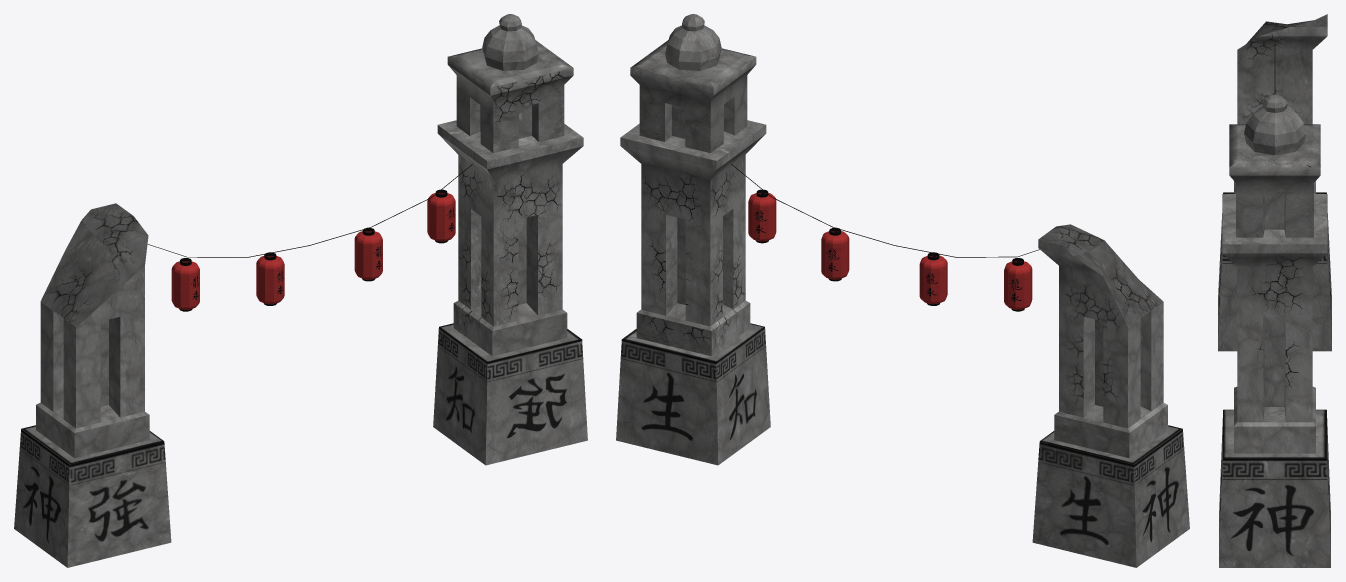
File: PortalProp_V1Ruin.fbx
3 views of the same model, side by side, from view 1: azimuth 30°, elevation 25°; view 2: azimuth 150°, elevation 25°; view 3: azimuth 270°, elevation 25° (orthographic). The views are drawn at different scales.
Parts seen in each view (by area): view 1: Column3, Ruin_Column, Farol8, Farol5, Farol6, Farol7; view 2: Column3, Ruin_Column, Farol5, Farol8, Farol7, Farol6; view 3: Column3, Ruin_Column.
Boxes of the visible parts, <box> form: Column3: <box>433,14,587,465</box>; Ruin_Column: <box>14,203,171,567</box>; Farol8: <box>427,189,455,243</box>; Farol5: <box>171,258,199,311</box>; Farol6: <box>256,252,284,305</box>; Farol7: <box>354,227,382,281</box>; Column3: <box>616,14,770,465</box>; Ruin_Column: <box>1032,224,1189,567</box>; Farol5: <box>1004,258,1032,311</box>; Farol8: <box>748,189,776,243</box>; Farol7: <box>821,227,849,281</box>; Farol6: <box>919,252,947,305</box>; Column3: <box>1219,94,1330,567</box>; Ruin_Column: <box>1218,14,1331,351</box>.
Size of the model in its own units: 13.84 by 10.63 by 2.46.
4 materials, 4 textured.
